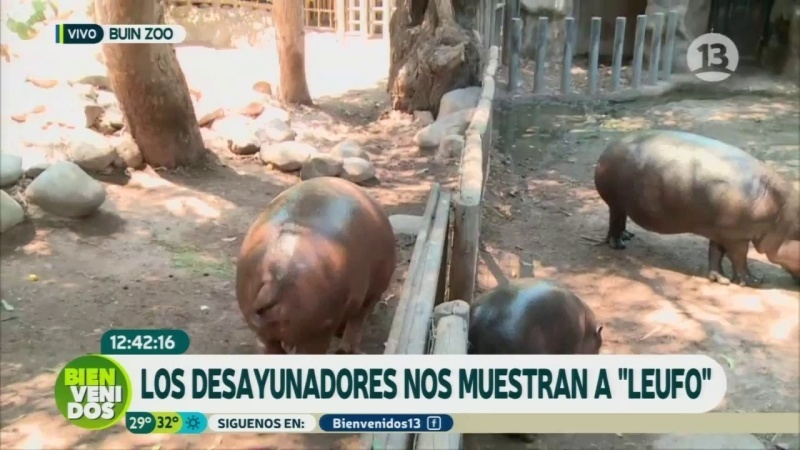hipopotamo: (574, 121, 800, 296), (216, 153, 399, 357), (465, 265, 620, 357)
